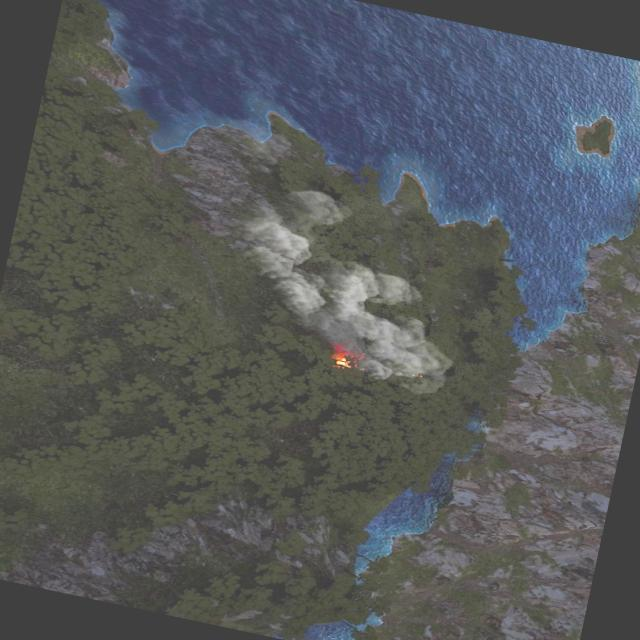fire: (327, 346, 359, 371)
smoke: (215, 178, 480, 398)
